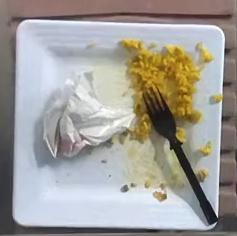rice: (121, 39, 200, 121)
